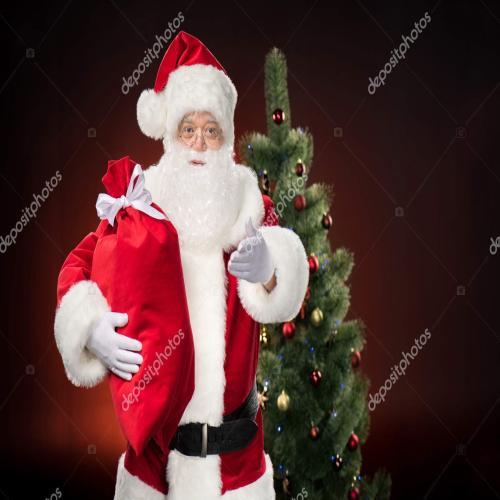Santa: (53, 30, 310, 498)
